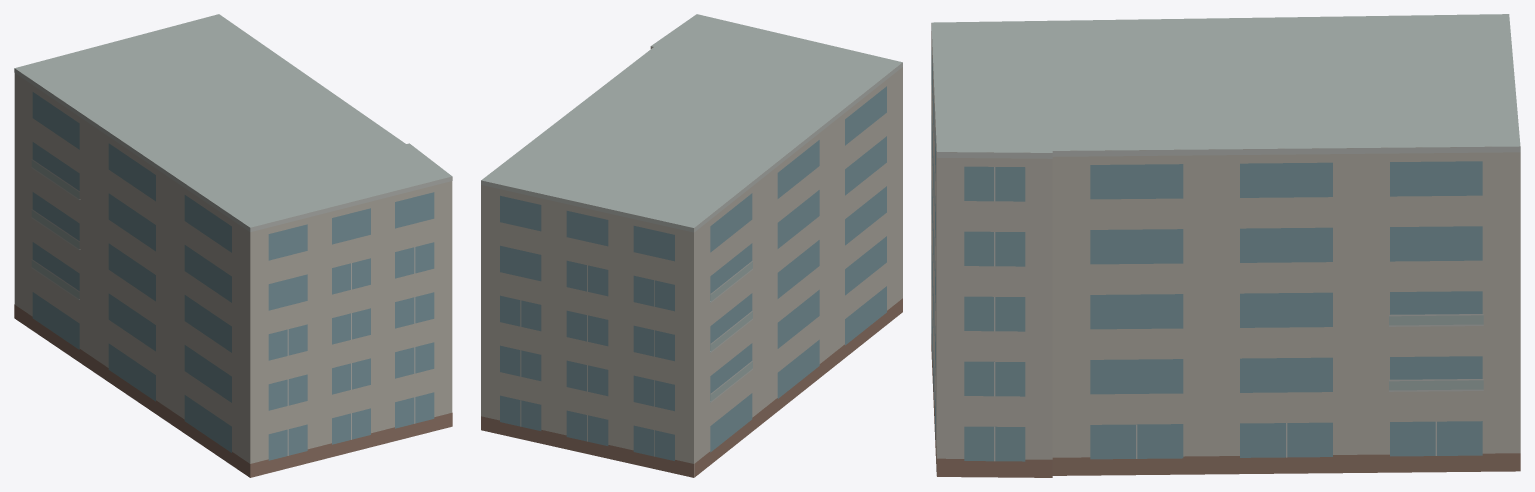
File: survey-upis-32529098.glb
3 renders of one model, left to right at view 1: azimuth 30°, elevation 25°; view 2: azimuth 150°, elevation 25°; view 3: azimuth 270°, elevation 25°, orthographic. The views are drawn at different scales.
Visible parts, largest first — view 1: survey-upis-32529098.tmp; view 2: survey-upis-32529098.tmp; view 3: survey-upis-32529098.tmp.
Part boxes in pixels (box(x1,y1,x2,y2)): survey-upis-32529098.tmp: box(14, 14, 452, 477); survey-upis-32529098.tmp: box(481, 14, 902, 477); survey-upis-32529098.tmp: box(931, 14, 1520, 477).
Size of the model in its own units: 12.4 by 13.5 by 22.19.
